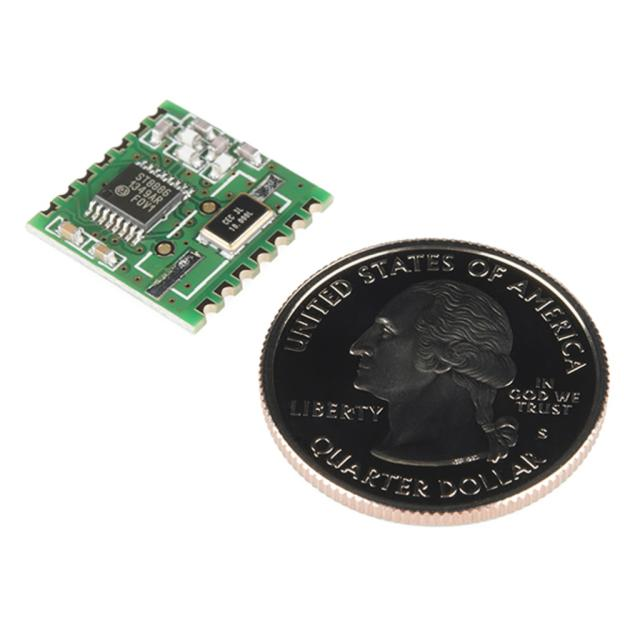Coin: (257, 230, 613, 527)
